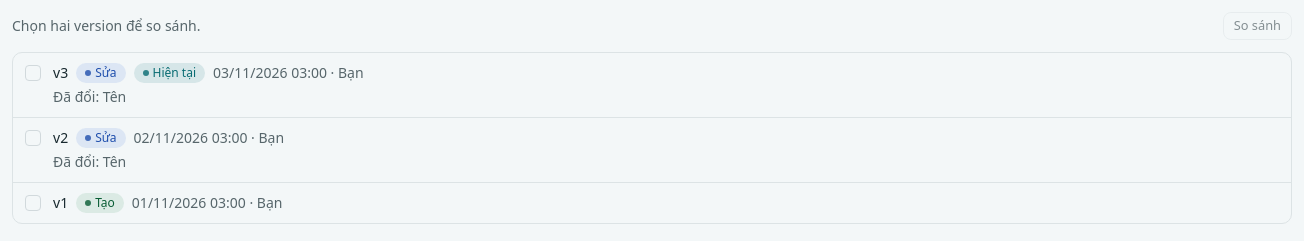
Scenario: compareNeedsExactlyTwo
The image size is (1304, 241).
Expected: the button "v3" is shown, [41,53,1291,117]
Expected: the button "So sánh" is disabled, [1223,12,1292,40]
Click the checkbox named "Chọn v3 để so sánh" at (33, 73), box [25,65,41,81]
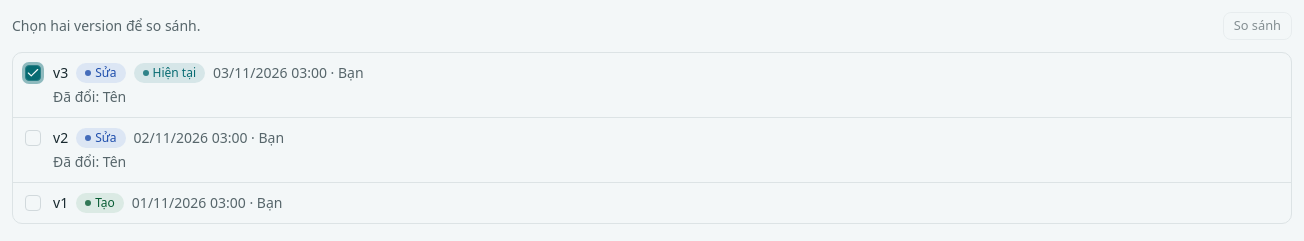
Expected: the button "So sánh" is disabled, [1223,12,1292,40]
Click the checkbox named "Chọn v1 để so sánh" at (33, 203), box [25,195,41,211]
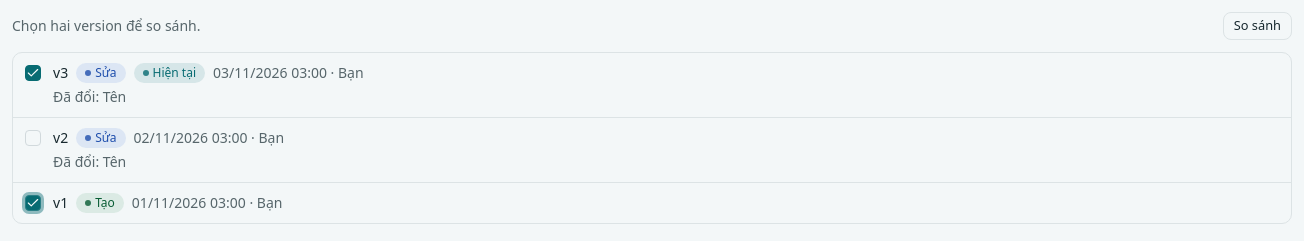
Result: the button "So sánh" is enabled at [1223,12,1292,40]
Click the checkbox named "Chọn v3 để so sánh" at (33, 73), box [25,65,41,81]
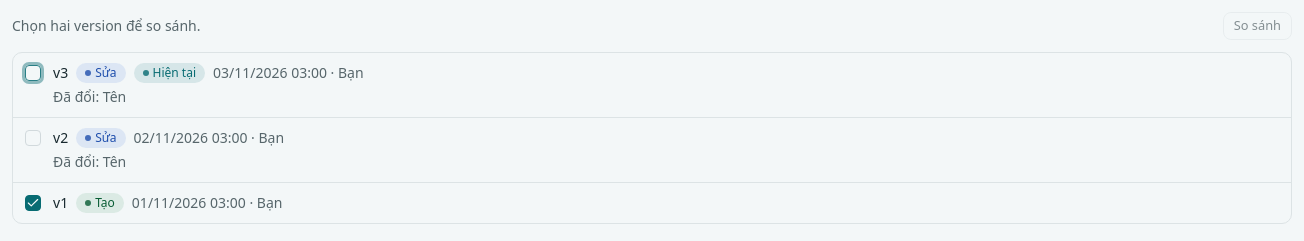
Result: the button "So sánh" is disabled at [1223,12,1292,40]
